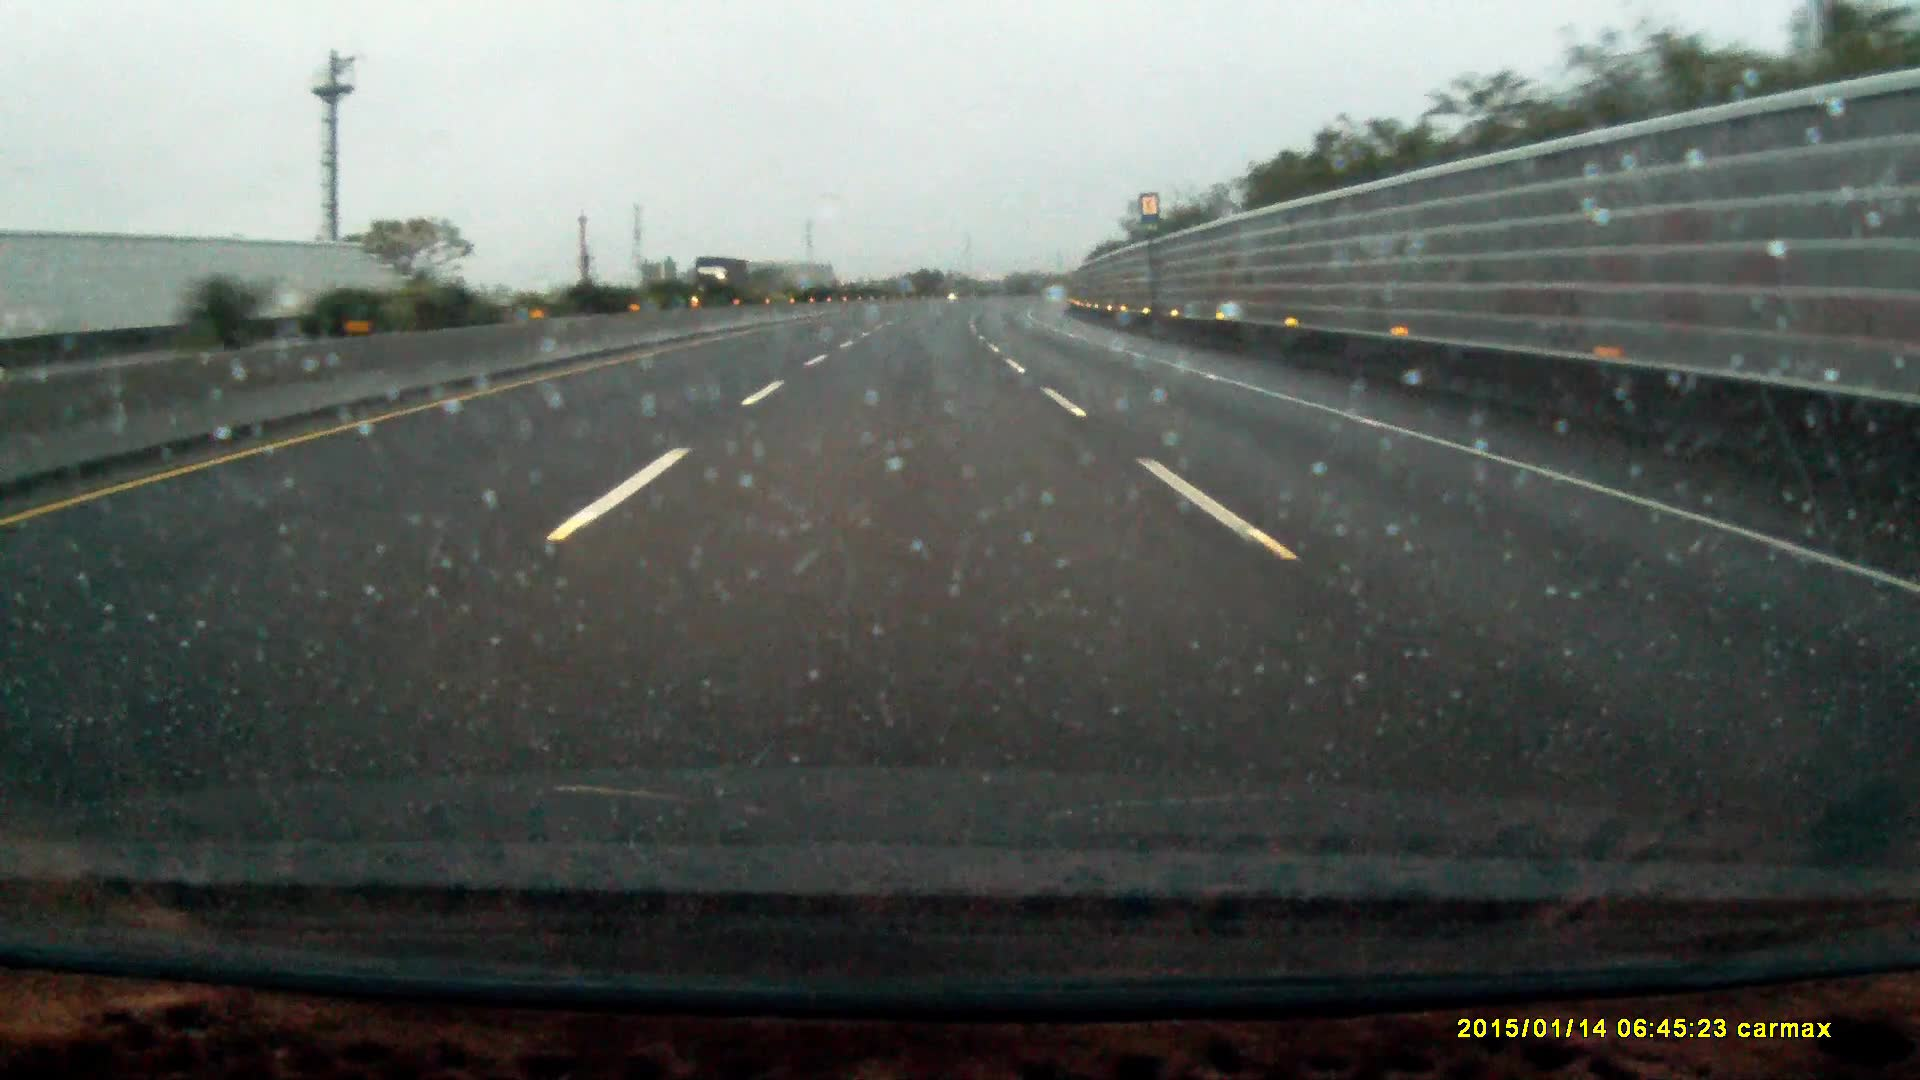vehicle: (694, 256, 748, 301)
